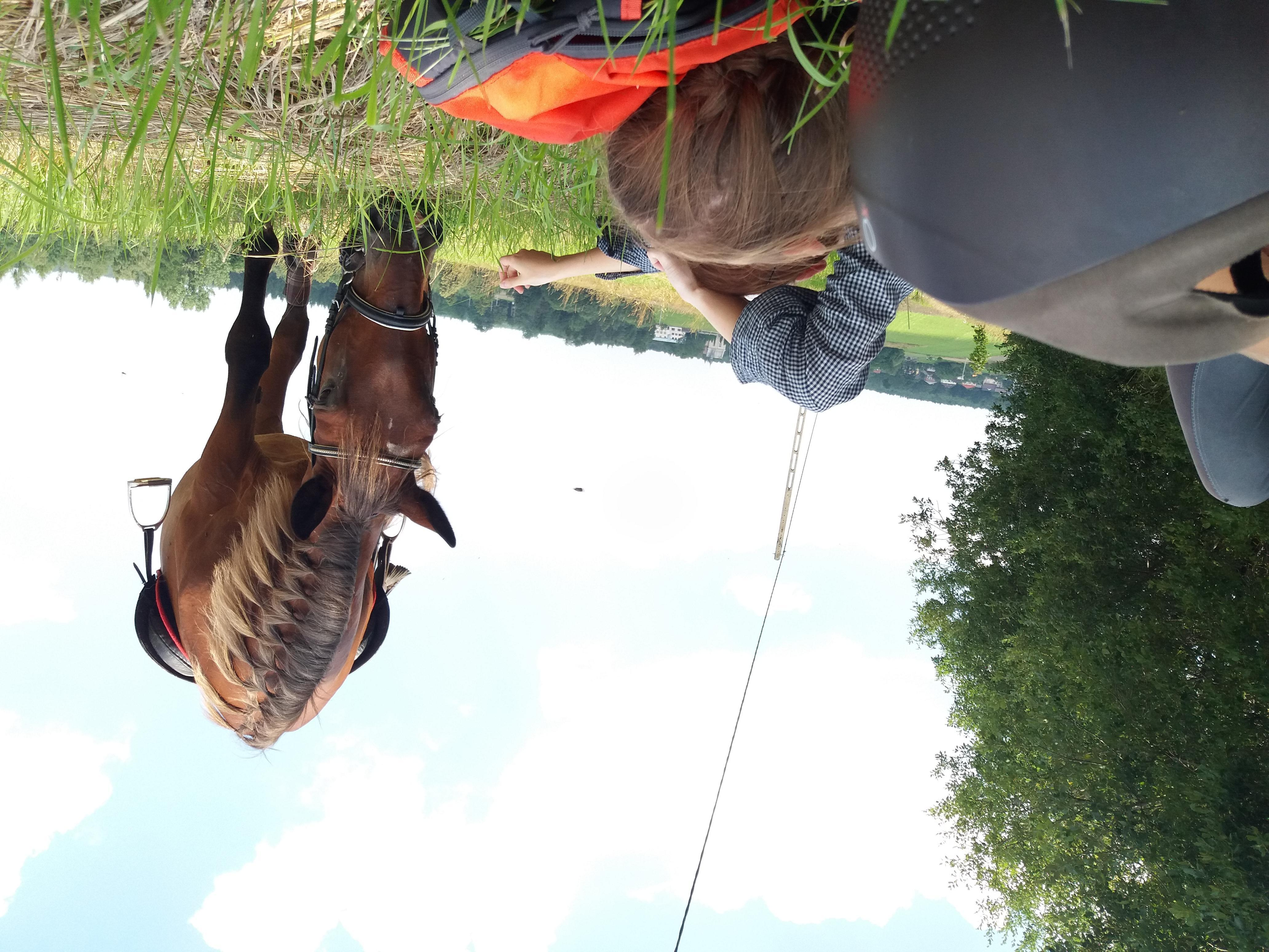horse: (152, 190, 456, 750)
